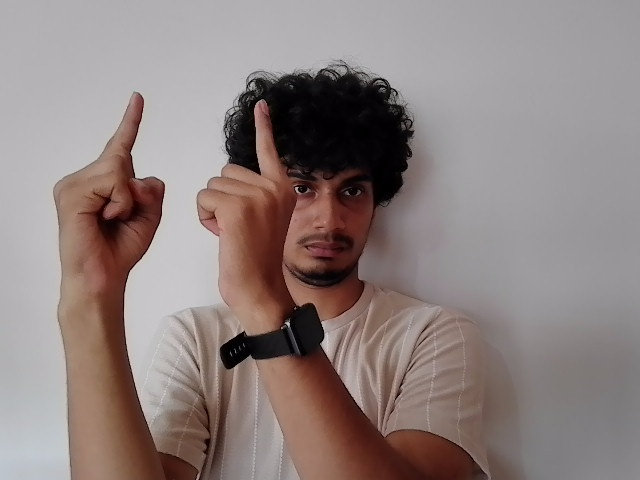play: (50, 86, 301, 281)
